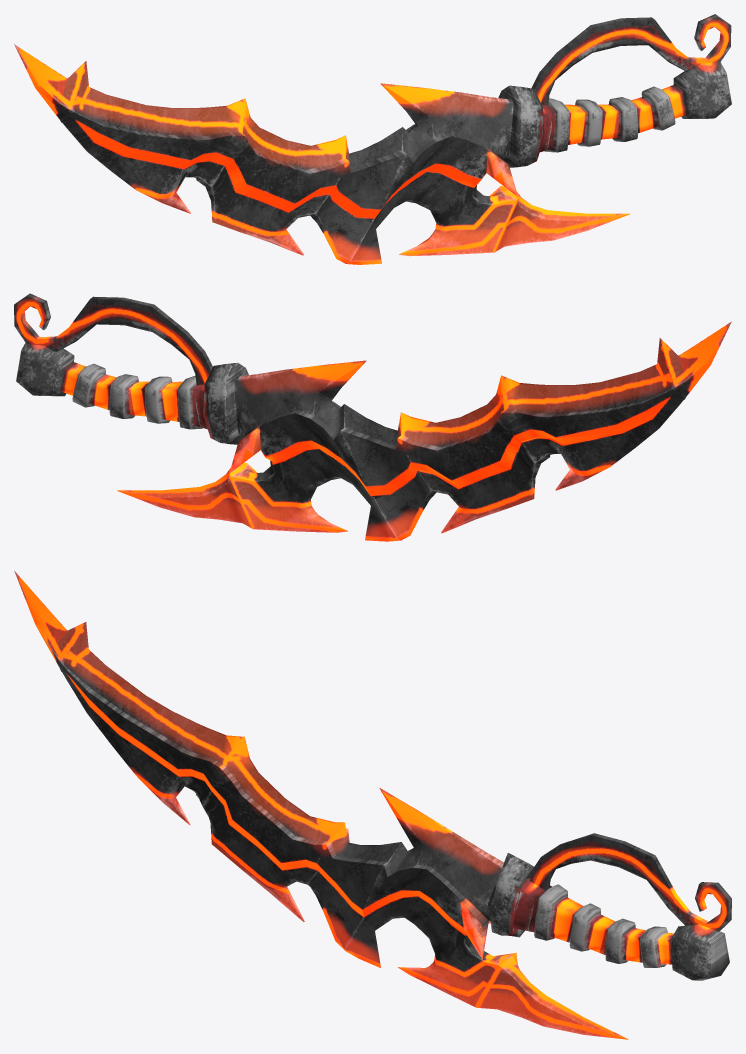
Rendered from DualSword_LOD0.fbx.
3 views of the same model, one above another, from view 1: azimuth 30°, elevation 25°; view 2: azimuth 150°, elevation 25°; view 3: azimuth 330°, elevation 25° (orthographic).
Visible parts, largest first — view 1: DualSwords_LOD0; view 2: DualSwords_LOD0; view 3: DualSwords_LOD0.
Boxes of the visible parts, <box> form: DualSwords_LOD0: <box>14,14,731,264</box>; DualSwords_LOD0: <box>14,293,731,541</box>; DualSwords_LOD0: <box>14,570,731,1039</box>.
Size of the model in its own units: 215 by 93.5 by 17.83.
